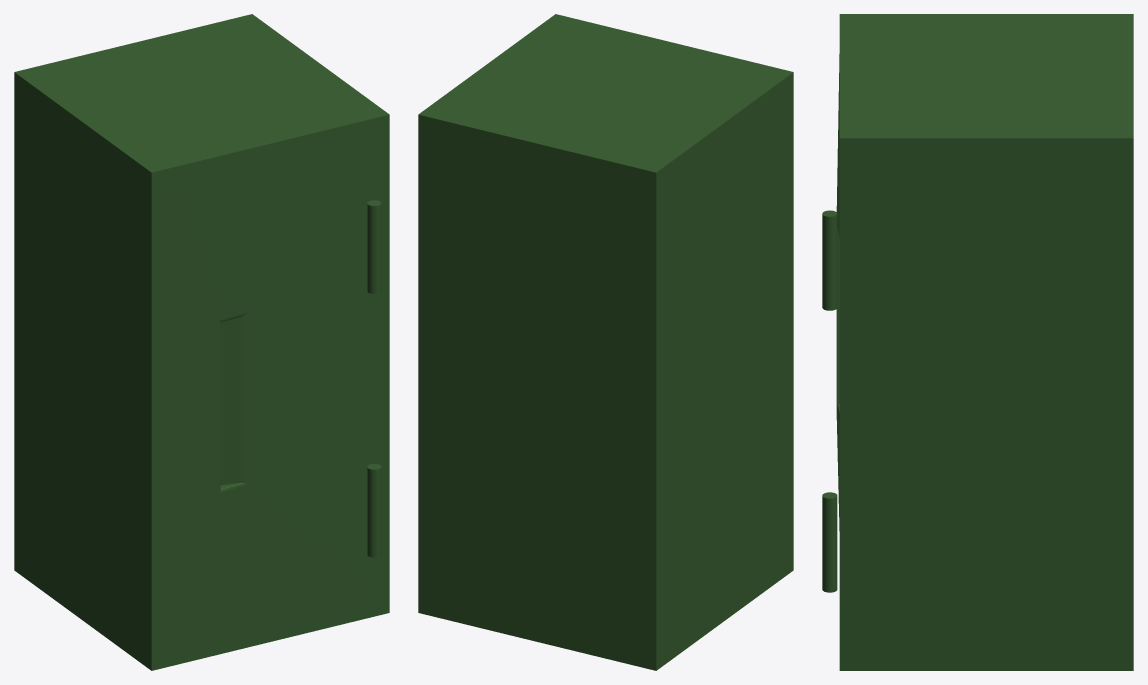
Rendered from Locker.fbx.
3 views of the same model, side by side, from view 1: azimuth 30°, elevation 25°; view 2: azimuth 150°, elevation 25°; view 3: azimuth 270°, elevation 25° (orthographic). The views are drawn at different scales.
Visible parts, largest first — view 1: Locker; view 2: Locker; view 3: Locker.
Boxes of the visible parts, bbox=[...] form: Locker: bbox=[14, 14, 389, 670]; Locker: bbox=[418, 14, 793, 670]; Locker: bbox=[822, 14, 1133, 670].
Size of the model in its own units: 0.5 by 0.5295 by 1.
